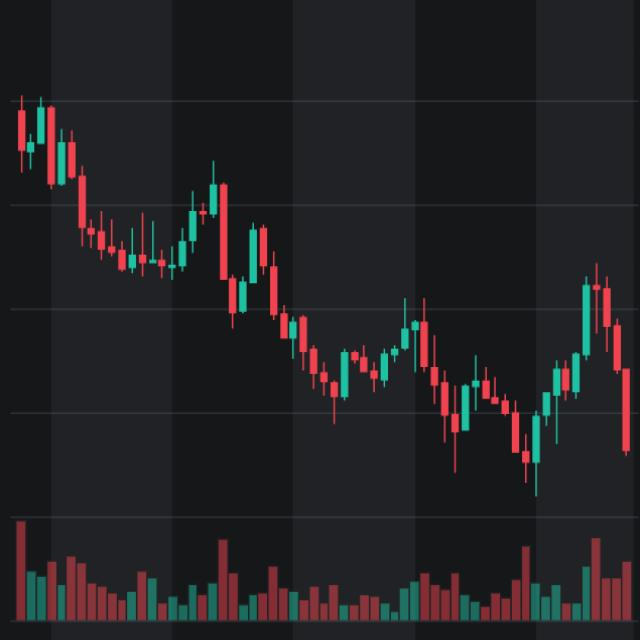Channel-down: (0, 46, 591, 545)
